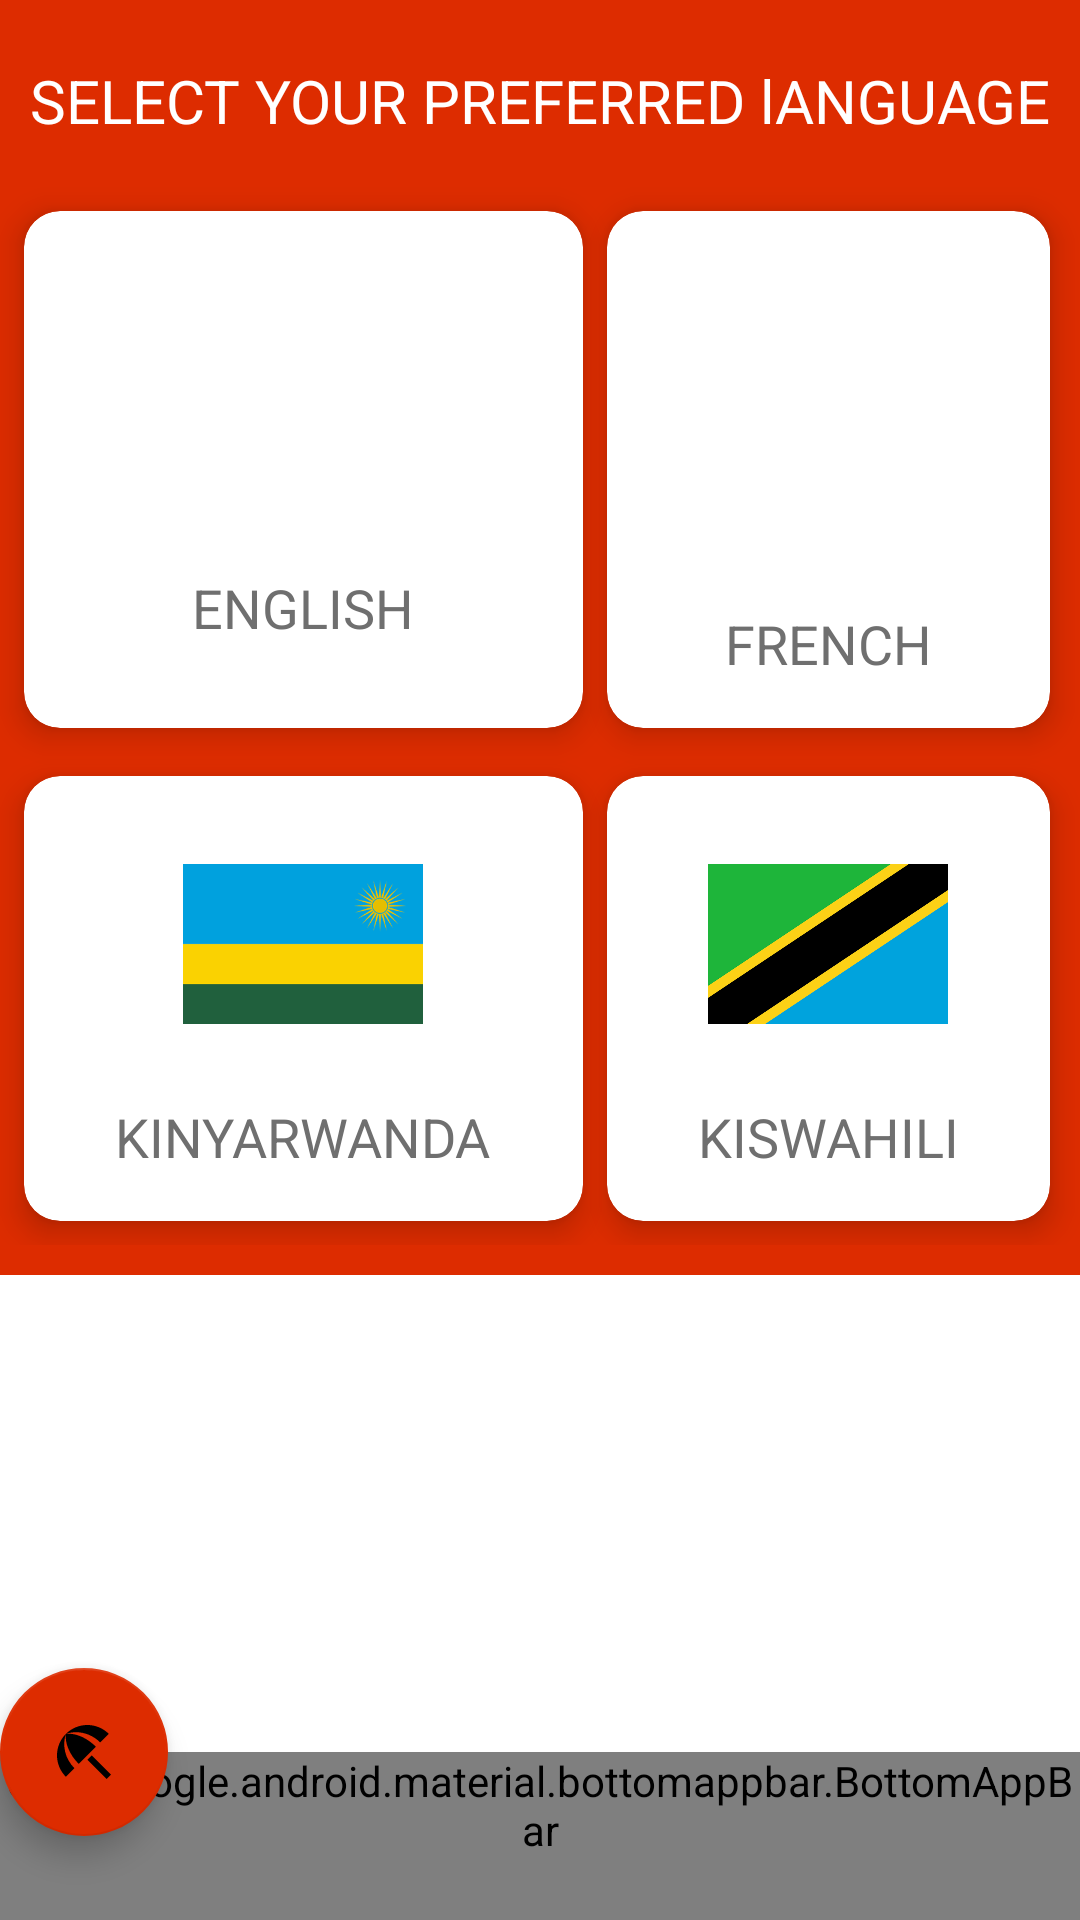

Icons on this 1080 x 1920 Android screen, each with the point to tap as (x,y):
rwandaflag: (303,944)
tanzaniaflag: (828,944)
